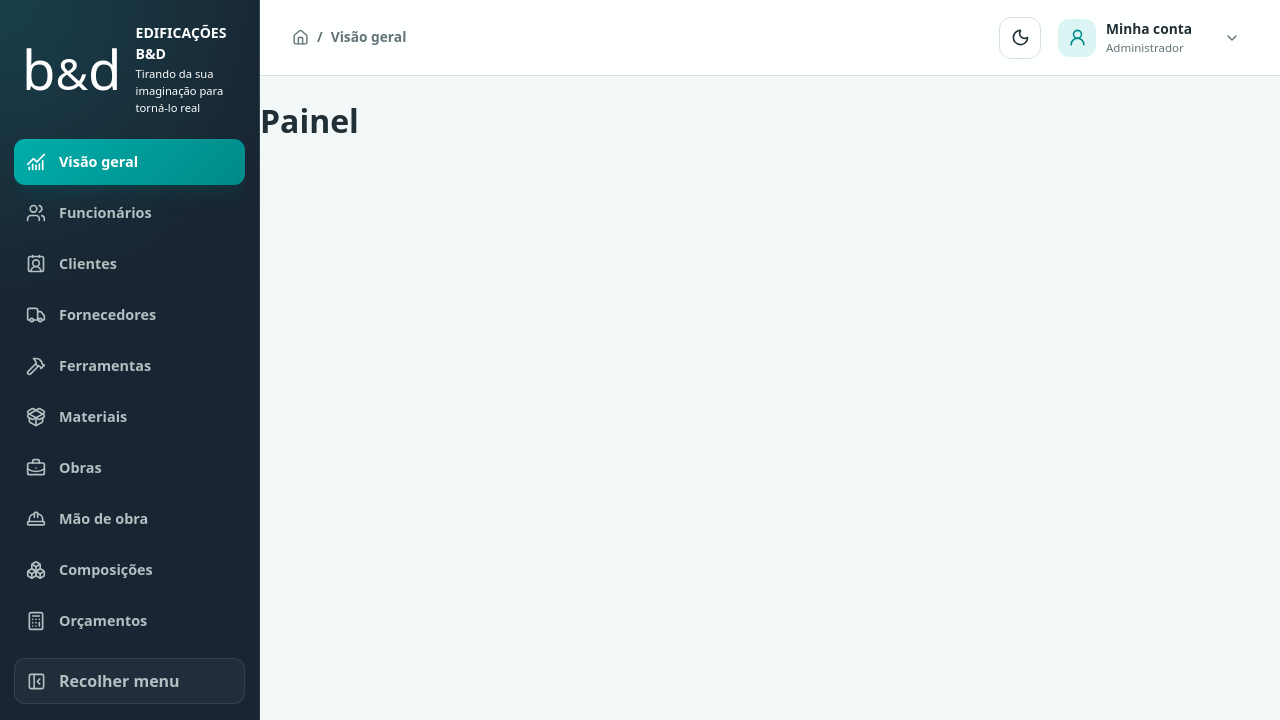
Test: ProtectedLayout › persists the compact sidebar and exposes the account menu
Click the button with aria-label "Recolher menu lateral".
click(130, 681)  # box [14, 658, 245, 704]
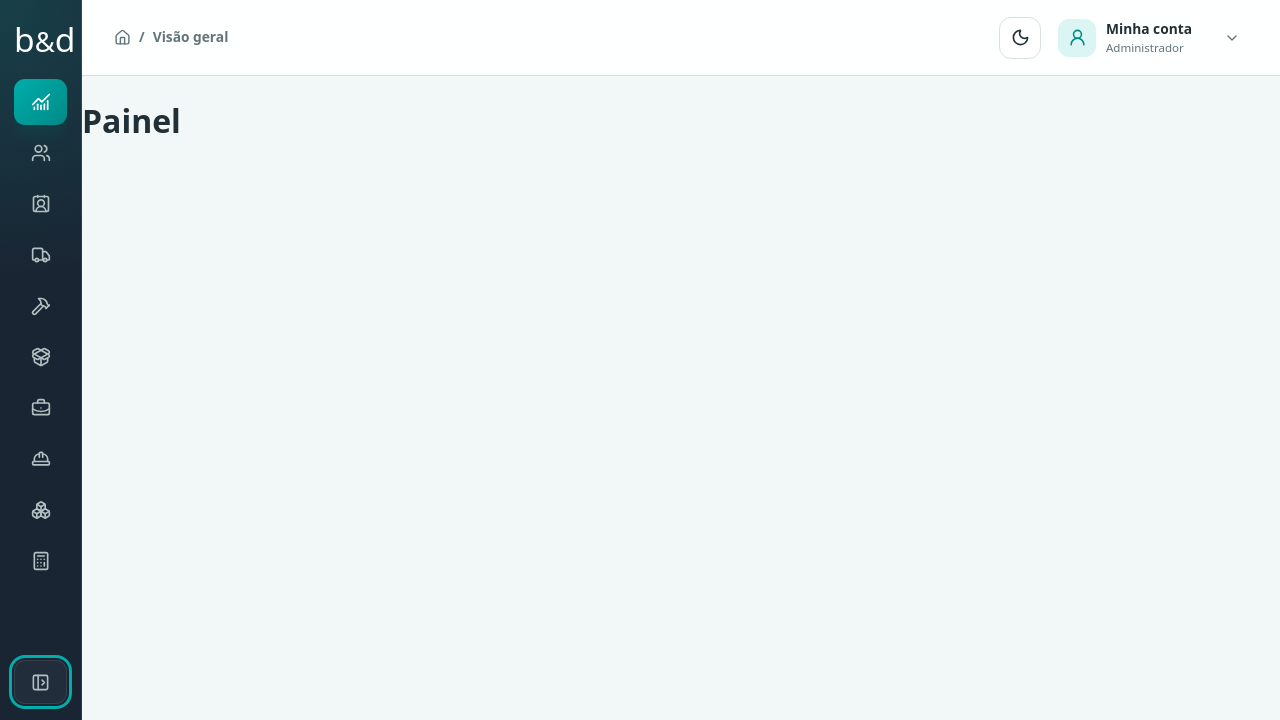
Click the button "Minha conta Administrador".
click(1150, 38)  # box [1053, 14, 1248, 62]
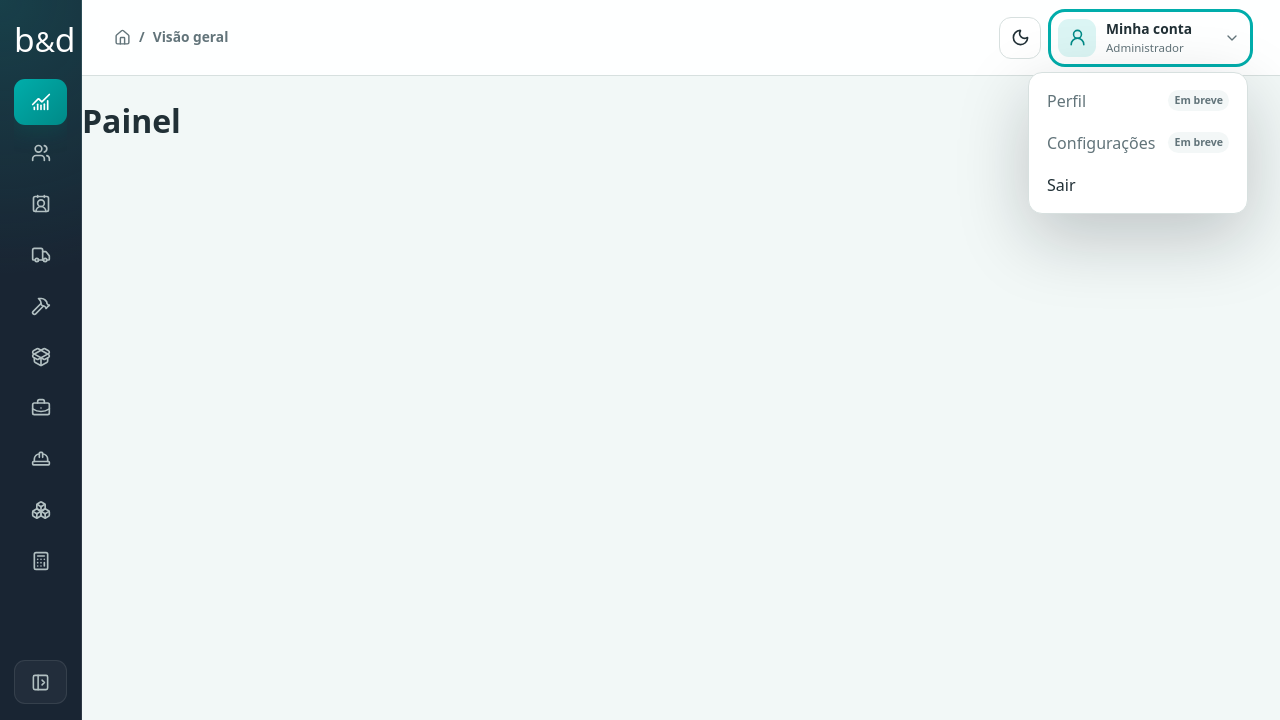
Expected: the menu named "Menu da conta" is shown, [1028, 72, 1248, 214]
Expected: the menu item "Perfil Em breve" is disabled, [1036, 80, 1240, 122]
Expected: the menu item "Configurações Em breve" is disabled, [1036, 122, 1240, 164]
